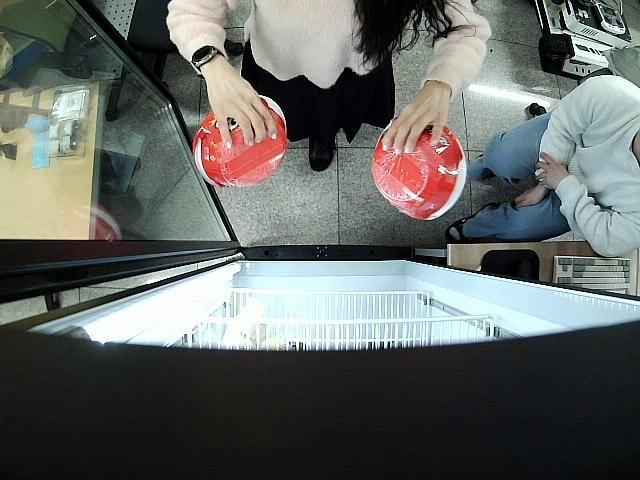10_wangTtukkeong: (369, 118, 465, 222), (189, 95, 287, 187)
